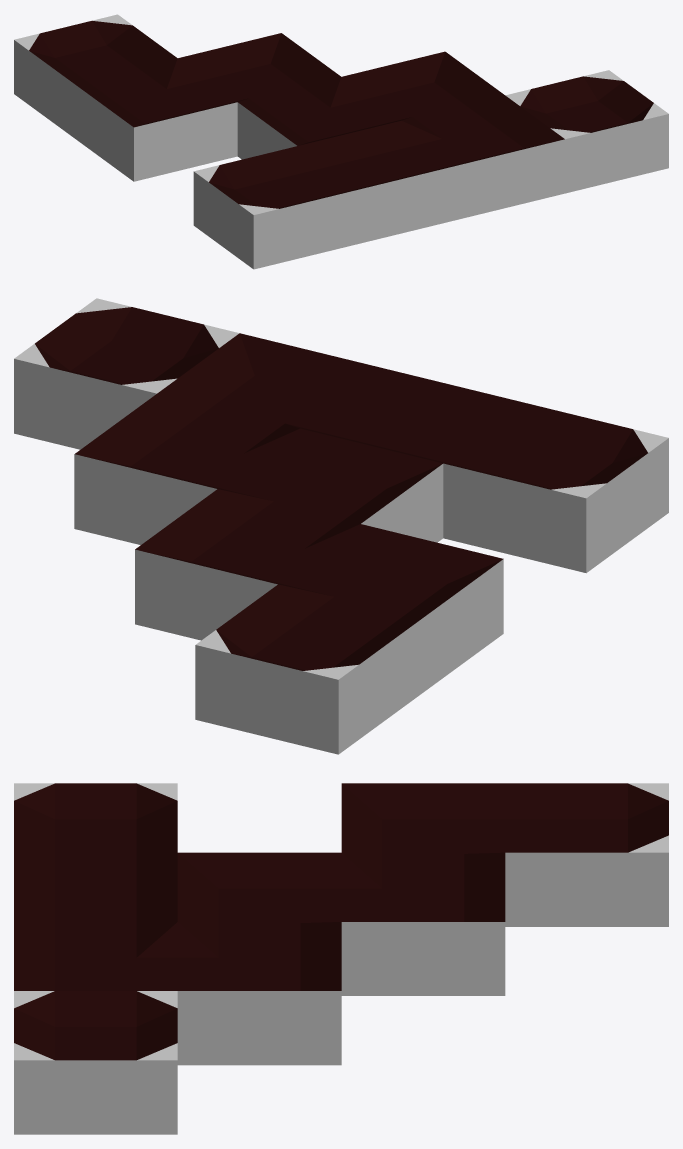
Rendered from 21s_path.obj.
3 views of the same model, one above another, from view 1: azimuth 30°, elevation 25°; view 2: azimuth 150°, elevation 25°; view 3: azimuth 270°, elevation 25° (orthographic). The views are drawn at different scales.
Visible parts, largest first — view 1: ending.0.1_ending.381, corner.0.3_corner.950, through.1.1_through.192, hole.3.1_Cube.192, corner.2.1_corner.953, ending.0.4_ending.382, corner.1.3_corner.952, corner.2.2_corner.954, corner.1.2_corner.951; view 2: ending.0.1_ending.381, ending.0.4_ending.382, hole.3.1_Cube.192, corner.0.3_corner.950, corner.2.2_corner.954, corner.1.3_corner.952, corner.1.2_corner.951, corner.2.1_corner.953, through.1.1_through.192; view 3: ending.0.4_ending.382, hole.3.1_Cube.192, corner.2.2_corner.954, corner.1.3_corner.952, corner.1.2_corner.951, corner.0.3_corner.950, ending.0.1_ending.381, through.1.1_through.192, corner.2.1_corner.953.
Boxes of the visible parts, x1=… form: ending.0.1_ending.381: x1=193, y1=146, x2=357, y2=269; corner.0.3_corner.950: x1=74, y1=58, x2=237, y2=181; through.1.1_through.192: x1=298, y1=120, x2=461, y2=243; hole.3.1_Cube.192: x1=505, y1=70, x2=668, y2=193; corner.2.1_corner.953: x1=402, y1=95, x2=565, y2=218; ending.0.4_ending.382: x1=14, y1=14, x2=177, y2=137; corner.1.3_corner.952: x1=178, y1=33, x2=340, y2=109; corner.2.2_corner.954: x1=342, y1=51, x2=504, y2=127; corner.1.2_corner.951: x1=237, y1=77, x2=399, y2=159; ending.0.1_ending.381: x1=443, y1=403, x2=668, y2=573; ending.0.4_ending.382: x1=195, y1=584, x2=420, y2=754; hole.3.1_Cube.192: x1=14, y1=298, x2=239, y2=449; corner.0.3_corner.950: x1=278, y1=524, x2=503, y2=693; corner.2.2_corner.954: x1=74, y1=394, x2=299, y2=544; corner.1.3_corner.952: x1=135, y1=489, x2=360, y2=640; corner.1.2_corner.951: x1=218, y1=428, x2=443, y2=542; corner.2.1_corner.953: x1=157, y1=333, x2=382, y2=438; through.1.1_through.192: x1=303, y1=368, x2=525, y2=466; ending.0.4_ending.382: x1=505, y1=783, x2=668, y2=926; hole.3.1_Cube.192: x1=14, y1=991, x2=177, y2=1134; corner.2.2_corner.954: x1=177, y1=922, x2=341, y2=1065; corner.1.3_corner.952: x1=341, y1=853, x2=505, y2=995; corner.1.2_corner.951: x1=177, y1=852, x2=341, y2=940; corner.0.3_corner.950: x1=341, y1=783, x2=505, y2=871; ending.0.1_ending.381: x1=14, y1=783, x2=177, y2=871; through.1.1_through.192: x1=14, y1=853, x2=177, y2=940; corner.2.1_corner.953: x1=14, y1=922, x2=177, y2=990.
Bounding box in the file's own units: 8 × 1 × 8.
